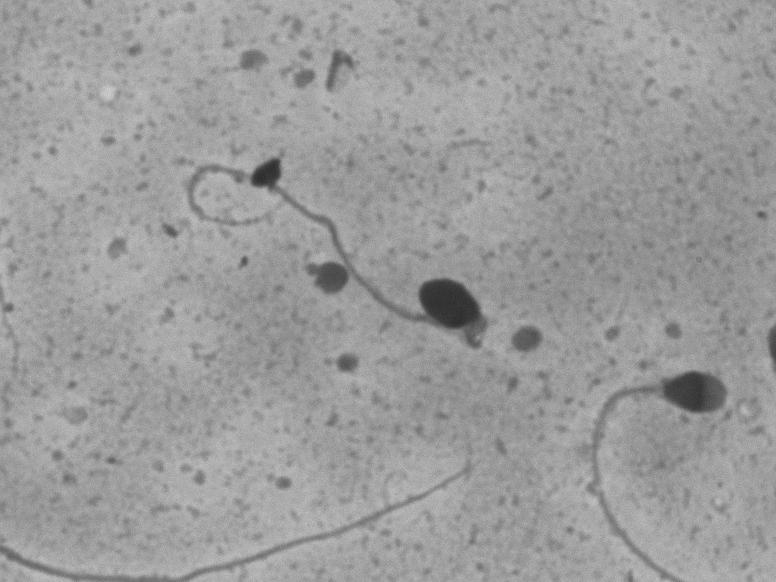Abnormal: (133, 143, 505, 397)
Normal: (543, 324, 741, 563)
